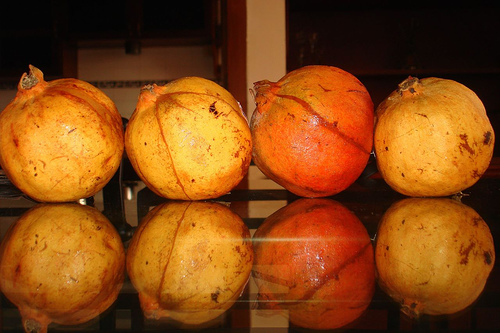pomogranate: (2, 60, 124, 203), (249, 64, 373, 194), (126, 76, 252, 201), (373, 73, 497, 199), (254, 200, 374, 329), (376, 196, 496, 321)
